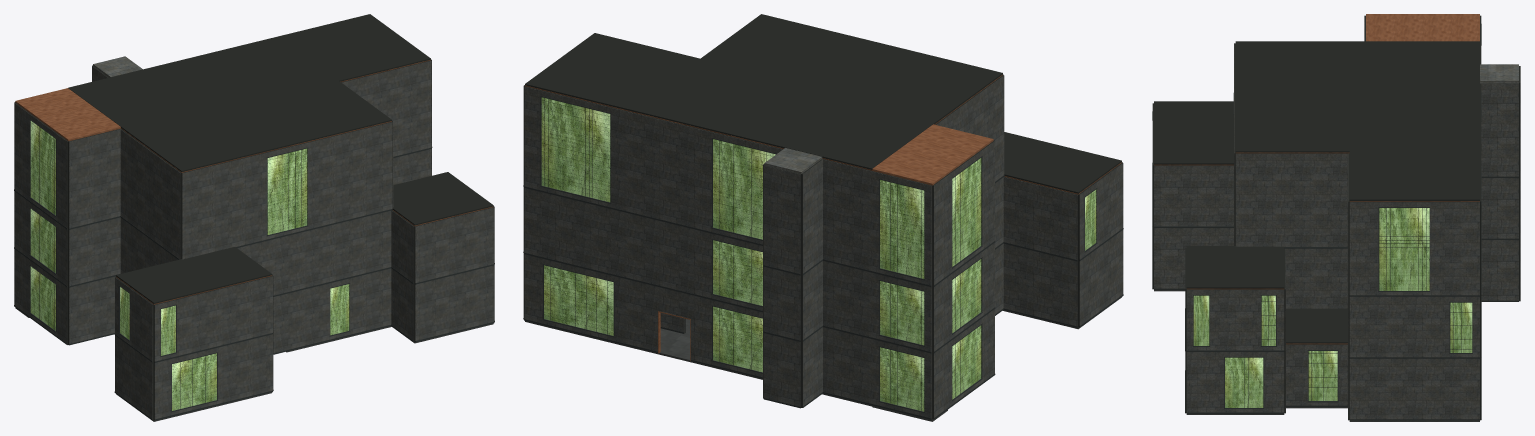
Rendered from architecture.glb.
3 renders of one model, left to right at view 1: azimuth 30°, elevation 25°; view 2: azimuth 150°, elevation 25°; view 3: azimuth 270°, elevation 25°, orthographic. The views are drawn at different scales.
Parts seen in each view (by area): view 1: L03_gallery | Slate, soffit & lighting | M06 Recessed joiner, L03 | z wall 6.00 | M01 Dressed basalt, L02 | z wall 6.00 | M01 Dressed basalt, L02 | z wall 11.00 | M01 Dressed basalt, L01 | z wall 6.00 | M01 Dressed basalt, L03_private | Slate, soffit & lighting | M06 Recessed joiner, L03 | x wall -8.00 | M01 Dressed basalt, L03_foyer | Slate, soffit & lighting | M06 Recessed joinery, L03 | z wall -1.00 | M01 Dressed basalt, L02_library | Slate, soffit & lighting | M06 Recessed joiner, L01 | z wall 11.00 | M01 Dressed basalt, L02 | z wall 9.00 | M01 Dressed basalt (+27 smaller); view 2: L03_gallery | Slate, soffit & lighting | M06 Recessed joiner, L03 | z wall -9.00 | M01 Dressed basalt, L02 | z wall -9.00 | M01 Dressed basalt, L03 | z wall -9.00 | M04 Pressed garden glass, L01 | z wall -9.00 | M01 Dressed basalt, L01 | z wall -9.00 | M04 Pressed garden glass, L03_private | Slate, soffit & lighting | M06 Recessed joiner, L03_foyer | Slate, soffit & lighting | M06 Recessed joinery, L02 | z wall -9.00 | M04 Pressed garden glass, L02 | z wall 6.00 | M01 Dressed basalt, L01 | z wall 6.00 | M01 Dressed basalt, L02_library | Slate, soffit & lighting | M06 Recessed joiner (+26 smaller); view 3: L03_gallery | Slate, soffit & lighting | M06 Recessed joiner, L03 | x wall 8.00 | M01 Dressed basalt, L01 | x wall 15.00 | M01 Dressed basalt, L03 | x wall 15.00 | M01 Dressed basalt, L02 | x wall 15.00 | M01 Dressed basalt, L03_private | Slate, soffit & lighting | M06 Recessed joiner, L03_foyer | Slate, soffit & lighting | M06 Recessed joinery, L02_library | Slate, soffit & lighting | M06 Recessed joiner, L02 | x wall -4.00 | M01 Dressed basalt, L02 | x wall 14.00 | M01 Dressed basalt, L02_collect | Slate, soffit & lighting | M06 Recessed joiner, L03 | x wall 15.00 | M04 Pressed garden glass (+22 smaller).
Boxes of the visible parts, <box> form: L03_gallery | Slate, soffit & lighting | M06 Recessed joiner: <box>91,53,391,171</box>; L03 | z wall 6.00 | M01 Dressed basalt: <box>182,122,392,259</box>; L02 | z wall 6.00 | M01 Dressed basalt: <box>237,210,391,295</box>; L02 | z wall 11.00 | M01 Dressed basalt: <box>154,276,272,361</box>; L01 | z wall 6.00 | M01 Dressed basalt: <box>273,268,391,353</box>; L03_private | Slate, soffit & lighting | M06 Recessed joiner: <box>278,14,430,81</box>; L03 | x wall -8.00 | M01 Dressed basalt: <box>120,129,180,259</box>; L03_foyer | Slate, soffit & lighting | M06 Recessed joinery: <box>68,36,300,104</box>; L03 | z wall -1.00 | M01 Dressed basalt: <box>342,61,431,156</box>; L02_library | Slate, soffit & lighting | M06 Recessed joiner: <box>116,247,272,303</box>; L01 | z wall 11.00 | M01 Dressed basalt: <box>154,334,272,419</box>; L02 | z wall 9.00 | M01 Dressed basalt: <box>415,207,494,282</box>; L03_gallery | Slate, soffit & lighting | M06 Recessed joiner: <box>657,14,1002,149</box>; L03 | z wall -9.00 | M01 Dressed basalt: <box>524,86,931,286</box>; L02 | z wall -9.00 | M01 Dressed basalt: <box>524,188,931,353</box>; L03 | z wall -9.00 | M04 Pressed garden glass: <box>541,97,924,278</box>; L01 | z wall -9.00 | M01 Dressed basalt: <box>524,254,931,419</box>; L01 | z wall -9.00 | M04 Pressed garden glass: <box>544,265,924,411</box>; L03_private | Slate, soffit & lighting | M06 Recessed joiner: <box>525,33,699,110</box>; L03_foyer | Slate, soffit & lighting | M06 Recessed joinery: <box>630,90,898,169</box>; L02 | z wall -9.00 | M04 Pressed garden glass: <box>713,240,924,345</box>; L02 | z wall 6.00 | M01 Dressed basalt: <box>1003,177,1077,259</box>; L01 | z wall 6.00 | M01 Dressed basalt: <box>1003,243,1077,326</box>; L02_library | Slate, soffit & lighting | M06 Recessed joiner: <box>1004,132,1121,193</box>; L03_gallery | Slate, soffit & lighting | M06 Recessed joiner: <box>1235,41,1430,152</box>; L03 | x wall 8.00 | M01 Dressed basalt: <box>1235,154,1347,246</box>; L01 | x wall 15.00 | M01 Dressed basalt: <box>1349,358,1479,420</box>; L03 | x wall 15.00 | M01 Dressed basalt: <box>1349,202,1479,295</box>; L02 | x wall 15.00 | M01 Dressed basalt: <box>1349,296,1479,357</box>; L03_private | Slate, soffit & lighting | M06 Recessed joiner: <box>1349,151,1479,200</box>; L03_foyer | Slate, soffit & lighting | M06 Recessed joinery: <box>1431,41,1479,151</box>; L02_library | Slate, soffit & lighting | M06 Recessed joiner: <box>1154,101,1233,164</box>; L02 | x wall -4.00 | M01 Dressed basalt: <box>1154,166,1233,226</box>; L02 | x wall 14.00 | M01 Dressed basalt: <box>1186,290,1284,350</box>; L02_collect | Slate, soffit & lighting | M06 Recessed joiner: <box>1186,246,1284,288</box>; L03 | x wall 15.00 | M04 Pressed garden glass: <box>1379,208,1429,290</box>.
Size of the model in its own units: 28.23 by 15.11 by 22.62.
Materials: 11 (5 with a texture image).
